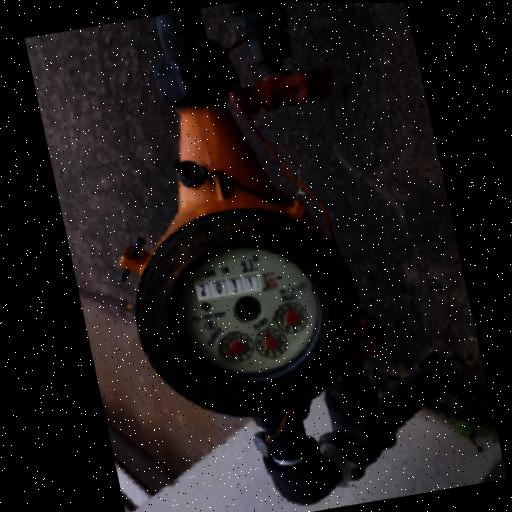0: (213, 279, 227, 295)
1: (228, 277, 243, 293), (245, 274, 260, 290)
2: (197, 282, 211, 298)
4: (263, 271, 276, 288)
border_water_meter_number: (193, 268, 279, 302)
